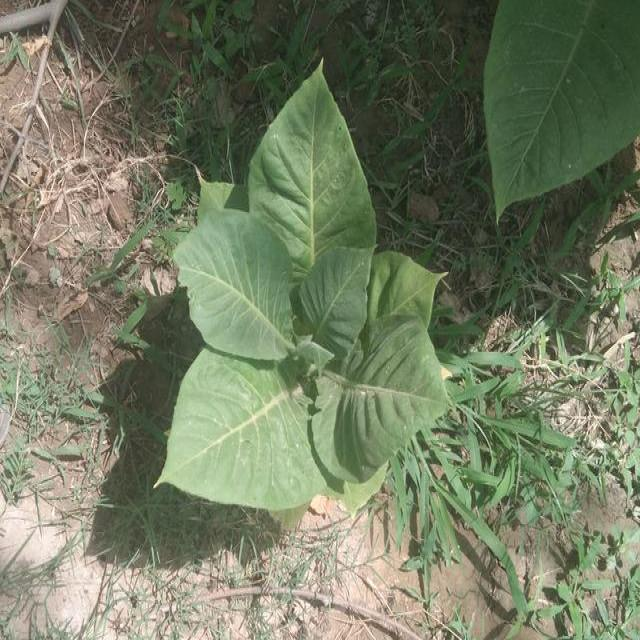crop: (155, 64, 456, 520)
